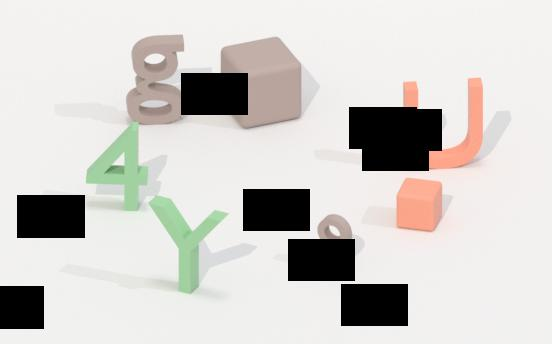4: (82, 122, 151, 212)
9: (316, 213, 358, 268)
Y-hoa: (147, 195, 229, 295)
g: (126, 34, 192, 130)
hop: (214, 38, 307, 129), (393, 175, 445, 235)
u: (402, 75, 486, 174)
